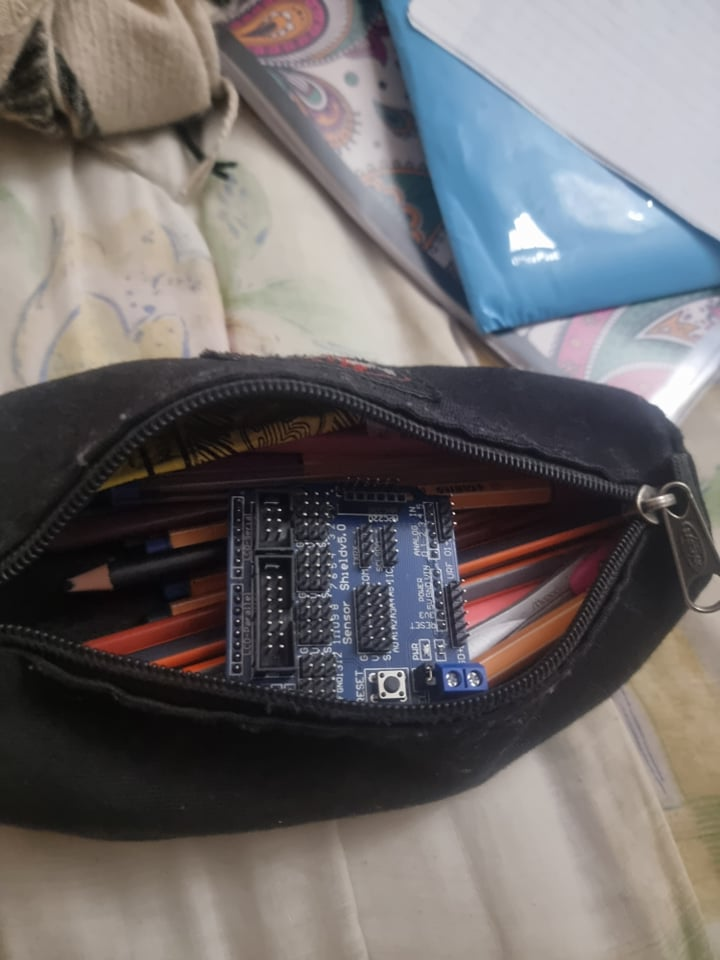5V EXPANSION: (220, 485, 490, 708)
